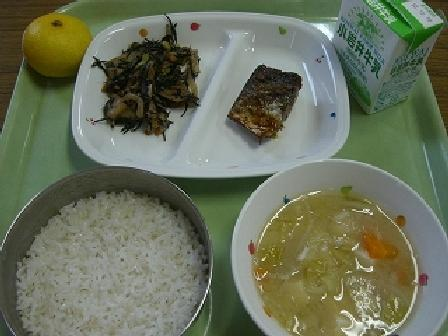Citrus: (16, 10, 97, 78)
Fish: (232, 48, 315, 149)
Milk: (324, 0, 440, 105)
Rice: (2, 165, 215, 335)
Soups: (234, 166, 445, 334)
salad with sauce: (100, 35, 205, 134)
